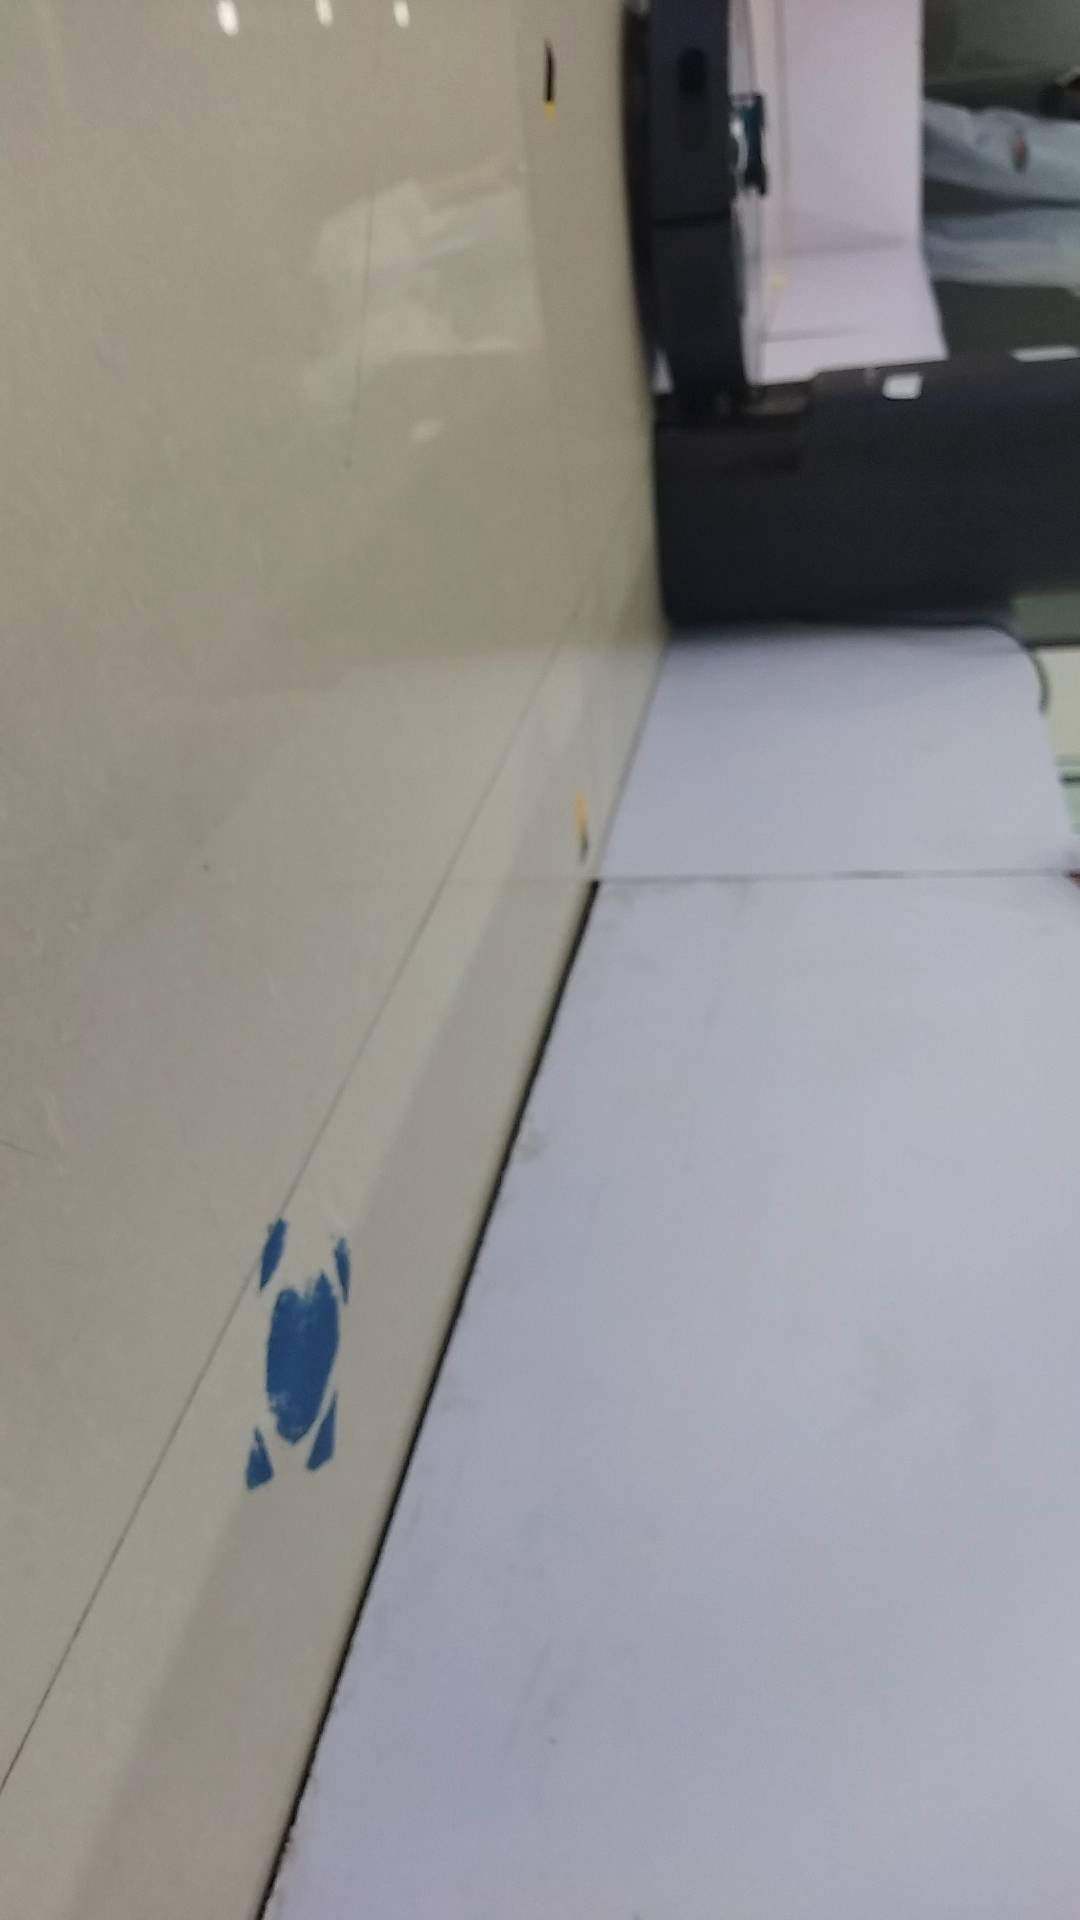dust collecting barrel: (653, 343, 1080, 637)
